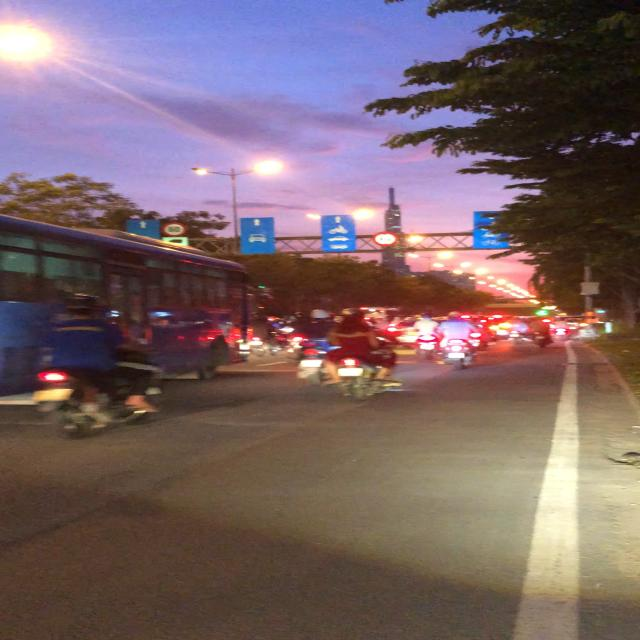Bien bao toc do toi da cho phep: (158, 221, 190, 238)
